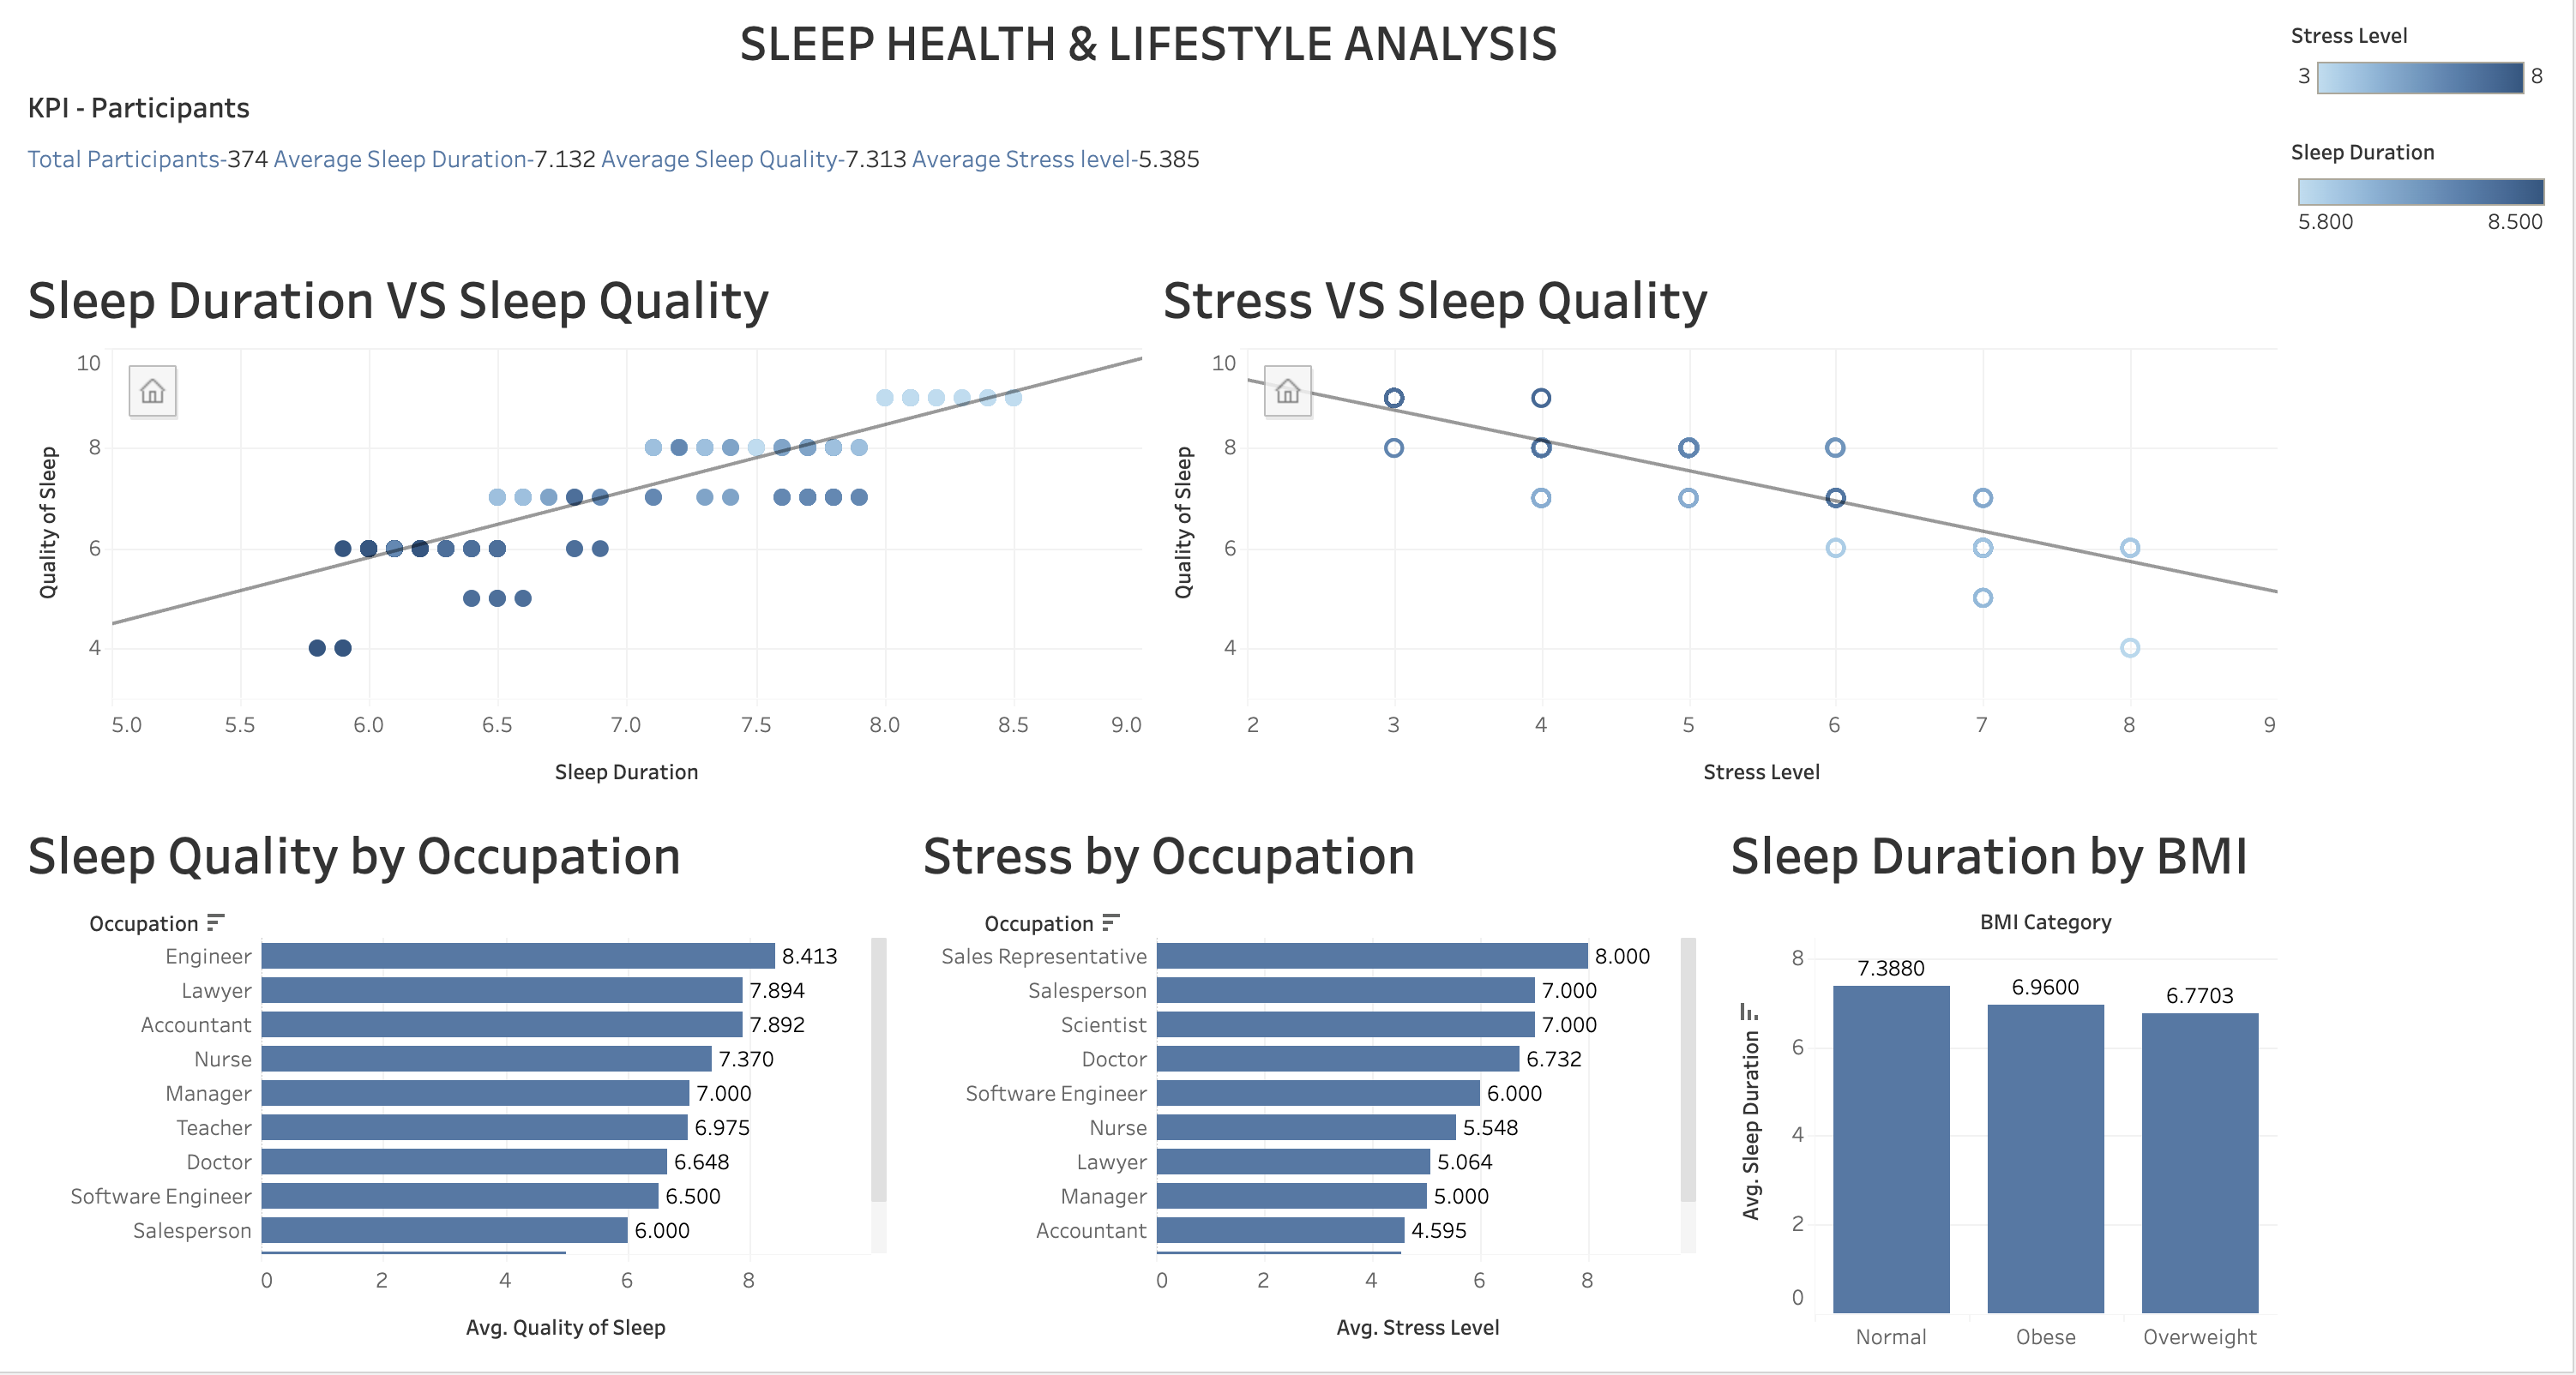

What the dashboard file says about the page in this screenshot:
{"tool":"tableau","page":{"name":"SLEEP HEALTH & LIFESTYLE ANALYSIS","canvas":[1500,800],"ordinal":1},"visuals":[{"type":"title","box":[8,8,1324,32]},{"type":"legend","title":"Sleep Duration VS Sleep Quality","param":"[federated.0omo3z81si9rll17qexzf0kaii55].[sum:Stress Level:qk]","box":[1332,8,160,68]},{"type":"worksheet","title":"KPI - Participants","mark":"Automatic","box":[8,40,1324,104]},{"type":"legend","title":"Stress VS Sleep Quality","param":"[federated.0omo3z81si9rll17qexzf0kaii55].[sum:Sleep Duration:qk]","box":[1332,76,160,68]},{"type":"worksheet","title":"Sleep Duration VS Sleep Quality","mark":"Automatic","rows":["Quality of Sleep"],"cols":["Sleep Duration"],"box":[8,144,662,324]},{"type":"worksheet","title":"Stress VS Sleep Quality","mark":"Automatic","rows":["Quality of Sleep"],"cols":["Stress Level"],"box":[670,144,662,324]},{"type":"worksheet","title":"Sleep Quality by Occupation","mark":"Automatic","rows":["Occupation"],"cols":["Quality of Sleep"],"box":[8,468,522.2,324]},{"type":"worksheet","title":"Stress by Occupation","mark":"Automatic","rows":["Occupation"],"cols":["Stress Level"],"box":[530.2,468,470.8,324]},{"type":"worksheet","title":"Sleep Duration by BMI","mark":"Automatic","rows":["Sleep Duration"],"cols":["BMI Category"],"box":[1001,468,331,324]}]}

Visuals, with their boxes in screenshot pixels (x1, y1, x2, y2), scaled from the page's 1500x800 canvas onto the 2576x1375 screenshot:
title: <region>14, 14, 2288, 69</region>
"Sleep Duration VS Sleep Quality" legend: <region>2288, 14, 2562, 130</region>
"KPI - Participants" worksheet: <region>14, 69, 2288, 248</region>
"Stress VS Sleep Quality" legend: <region>2288, 130, 2562, 248</region>
"Sleep Duration VS Sleep Quality" worksheet: <region>14, 248, 1151, 804</region>
"Stress VS Sleep Quality" worksheet: <region>1151, 248, 2288, 804</region>
"Sleep Quality by Occupation" worksheet: <region>14, 804, 911, 1361</region>
"Stress by Occupation" worksheet: <region>911, 804, 1719, 1361</region>
"Sleep Duration by BMI" worksheet: <region>1719, 804, 2288, 1361</region>
